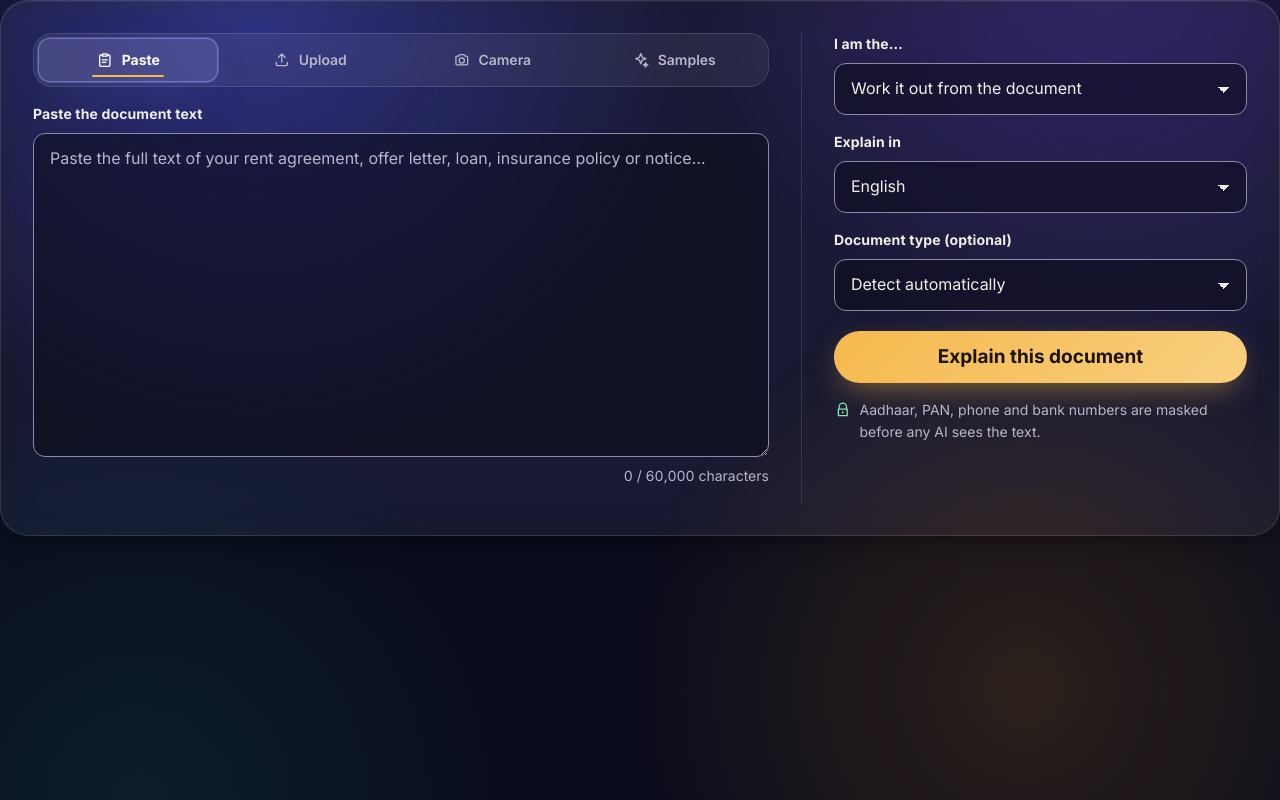
it: AnalyzeForm › shows the core minimum-length message for short text
Type "Too short" into the text box labelled "Paste the document text".
click(401, 295); type("Too short")  # box [33,133,769,457]
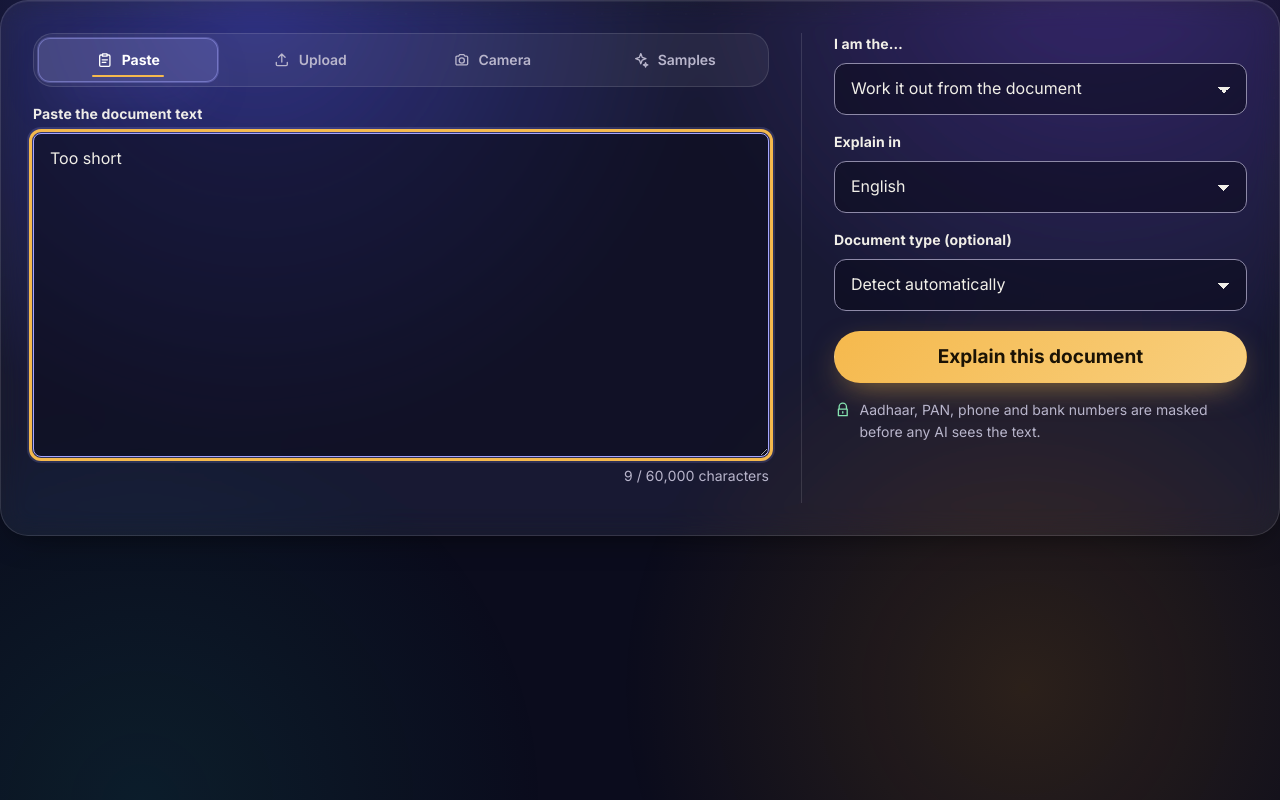
Click the button "Explain this document".
click(1040, 357)  # box [834,331,1247,383]
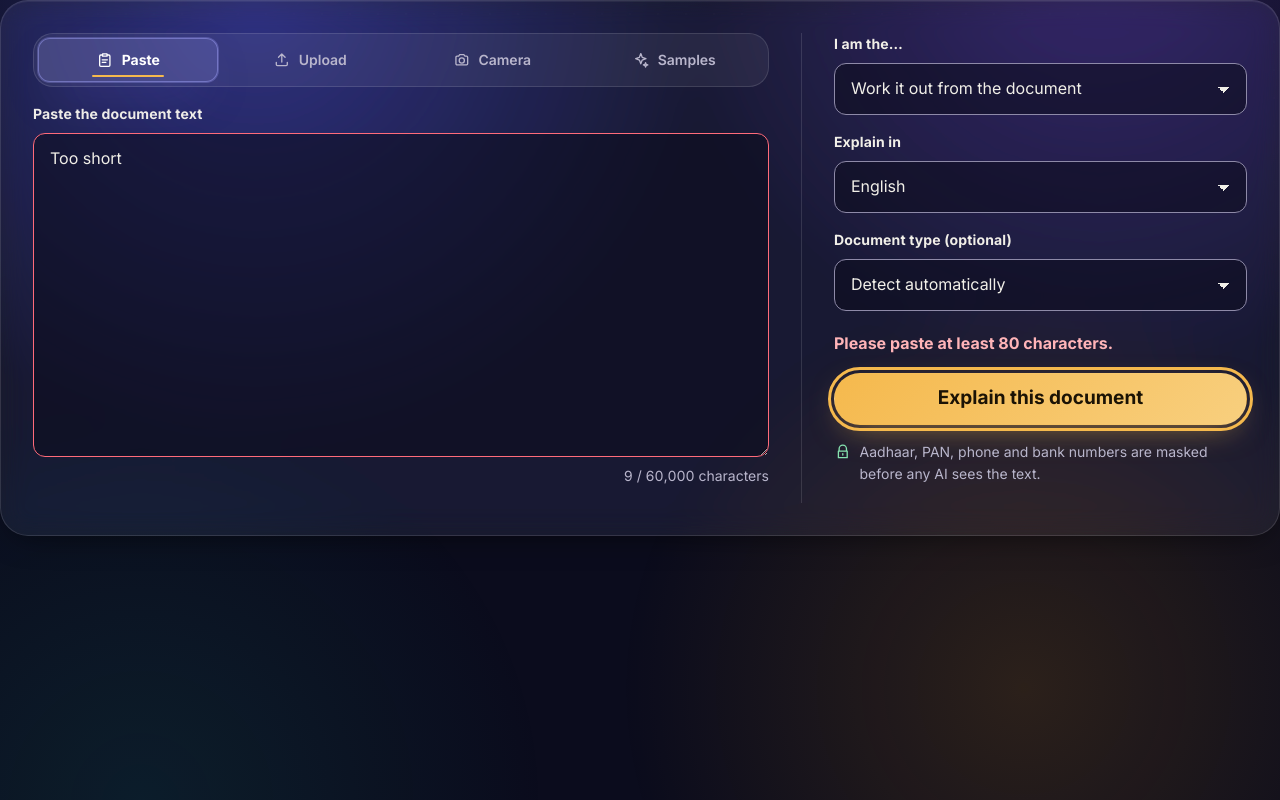
Result: the message shows "80" at [834,333,1113,353]
